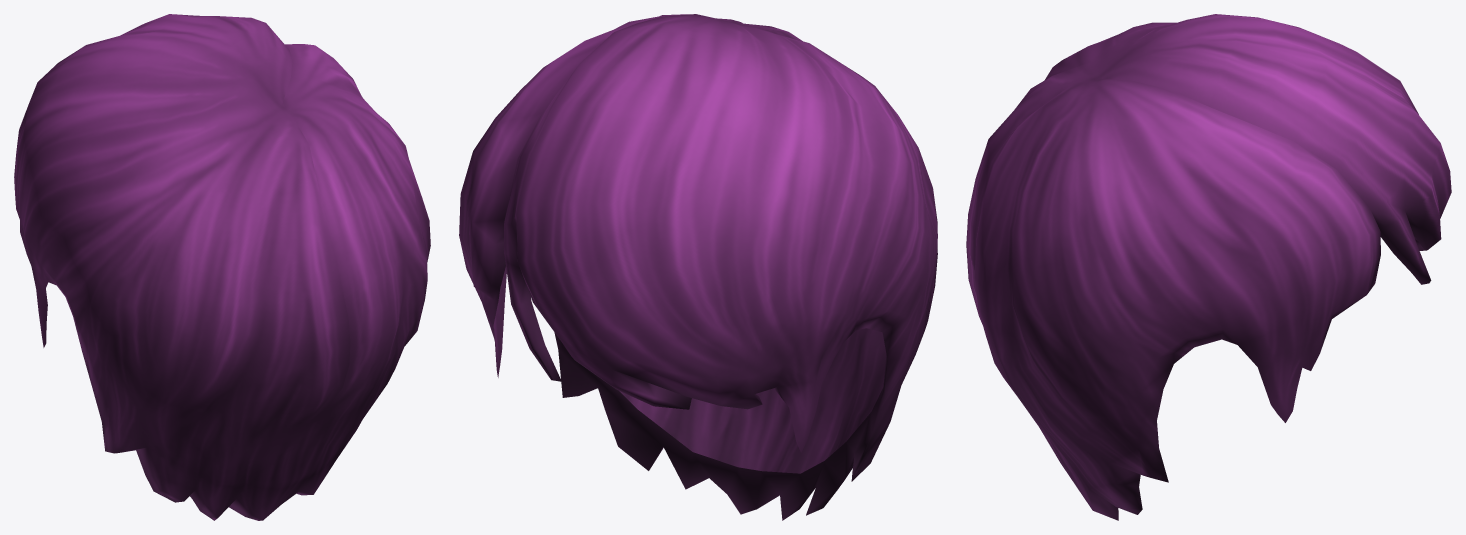
Rendered from Hair_Male_004_textured_purple.glb.
The picture shows the model from 3 angles, left to right: view 1: azimuth 30°, elevation 25°; view 2: azimuth 150°, elevation 25°; view 3: azimuth 270°, elevation 25°; orthographic projection. The views are drawn at different scales.
Parts seen in each view (by area): view 1: Hair_Male_004; view 2: Hair_Male_004; view 3: Hair_Male_004.
Part boxes in pixels (left/top/right/bottom): Hair_Male_004: left=14, top=14, right=430, bottom=520; Hair_Male_004: left=459, top=14, right=937, bottom=520; Hair_Male_004: left=966, top=14, right=1451, bottom=520.
Bounding box in the file's own units: 0.189 × 0.2477 × 0.2273.
1 material, 1 textured.
